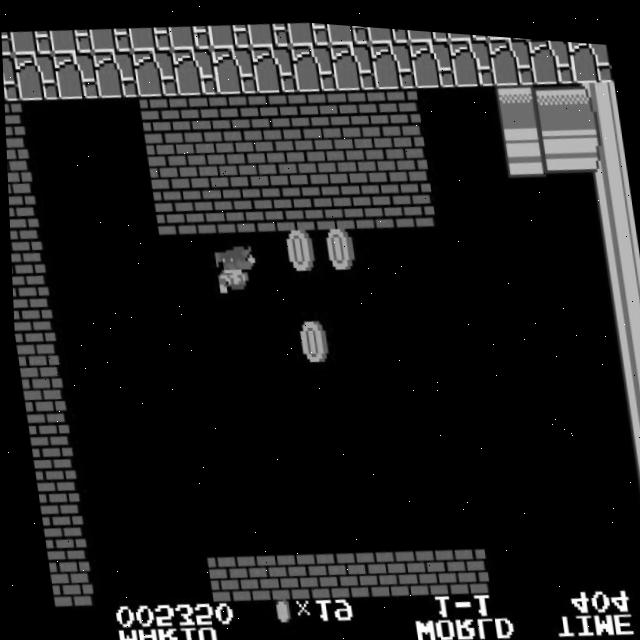1- brick_block: (137, 90, 185, 143), (240, 545, 288, 598), (183, 134, 231, 187), (176, 88, 224, 141), (222, 132, 270, 185), (216, 86, 264, 139), (319, 542, 367, 595), (262, 130, 310, 183), (359, 540, 407, 593), (302, 128, 350, 181), (341, 126, 389, 179), (335, 81, 383, 134), (438, 536, 486, 589), (381, 124, 429, 177), (200, 548, 248, 600), (143, 136, 191, 188), (279, 544, 327, 596), (255, 85, 303, 137), (295, 83, 343, 135), (42, 555, 89, 608), (17, 372, 64, 425), (399, 538, 446, 591), (375, 79, 422, 132), (150, 182, 197, 234), (189, 180, 236, 232), (348, 173, 395, 225), (229, 179, 276, 230), (269, 177, 316, 228), (308, 175, 355, 226), (30, 464, 76, 516), (24, 419, 70, 471), (388, 171, 434, 223), (37, 511, 83, 562), (11, 327, 56, 379), (10, 281, 51, 333), (8, 236, 44, 288), (7, 191, 37, 242), (5, 145, 31, 195), (3, 99, 25, 150)
11- little_mario: (208, 240, 258, 294)
14- pipe: (533, 71, 581, 124), (572, 70, 620, 123), (540, 117, 587, 170), (592, 207, 639, 260), (585, 162, 632, 214), (579, 116, 626, 168), (598, 253, 640, 306), (604, 299, 640, 350), (610, 344, 640, 396), (616, 390, 640, 442), (623, 436, 640, 487), (630, 482, 640, 532), (636, 527, 640, 578)
15- pipe_head: (500, 119, 547, 172), (494, 74, 541, 126)
17- undestructible_block: (51, 48, 99, 101), (91, 46, 139, 99), (130, 44, 178, 97), (170, 42, 218, 95), (249, 38, 297, 91), (368, 33, 416, 86), (408, 31, 456, 84), (11, 50, 59, 102), (209, 41, 257, 93), (487, 28, 535, 80), (448, 29, 495, 82), (289, 37, 336, 89), (329, 35, 376, 87), (527, 31, 575, 78), (566, 33, 613, 77), (8, 27, 52, 57), (48, 25, 92, 55), (207, 18, 251, 48), (247, 16, 291, 46), (88, 24, 132, 53), (167, 20, 211, 49), (128, 22, 171, 51), (286, 17, 330, 43), (326, 19, 370, 41), (2, 54, 19, 105), (365, 21, 409, 40), (405, 24, 448, 38), (445, 26, 488, 36), (1, 32, 12, 59)
2- coin: (287, 313, 335, 366), (315, 220, 362, 273), (275, 222, 322, 274)
